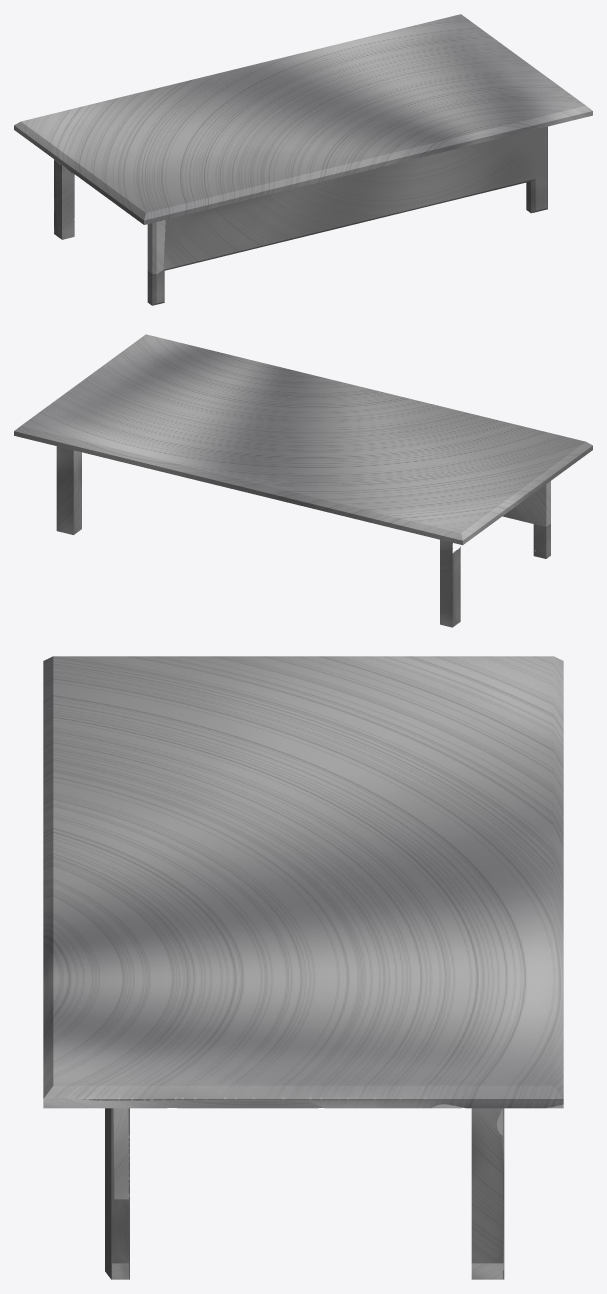
The model's file is Desk.fbx.
3 renders of one model, top to bottom at view 1: azimuth 30°, elevation 25°; view 2: azimuth 150°, elevation 25°; view 3: azimuth 270°, elevation 25°, orthographic. The views are drawn at different scales.
Visible parts, largest first — view 1: pCube1; view 2: pCube1; view 3: pCube1.
Boxes of the visible parts, x1,y1,x2,y2 form: pCube1: (14,14,592,305); pCube1: (14,334,592,627); pCube1: (43,656,563,1279).
Bounding box in the file's own units: 21.94 × 5.07 × 11.02.
1 material, 1 textured.
